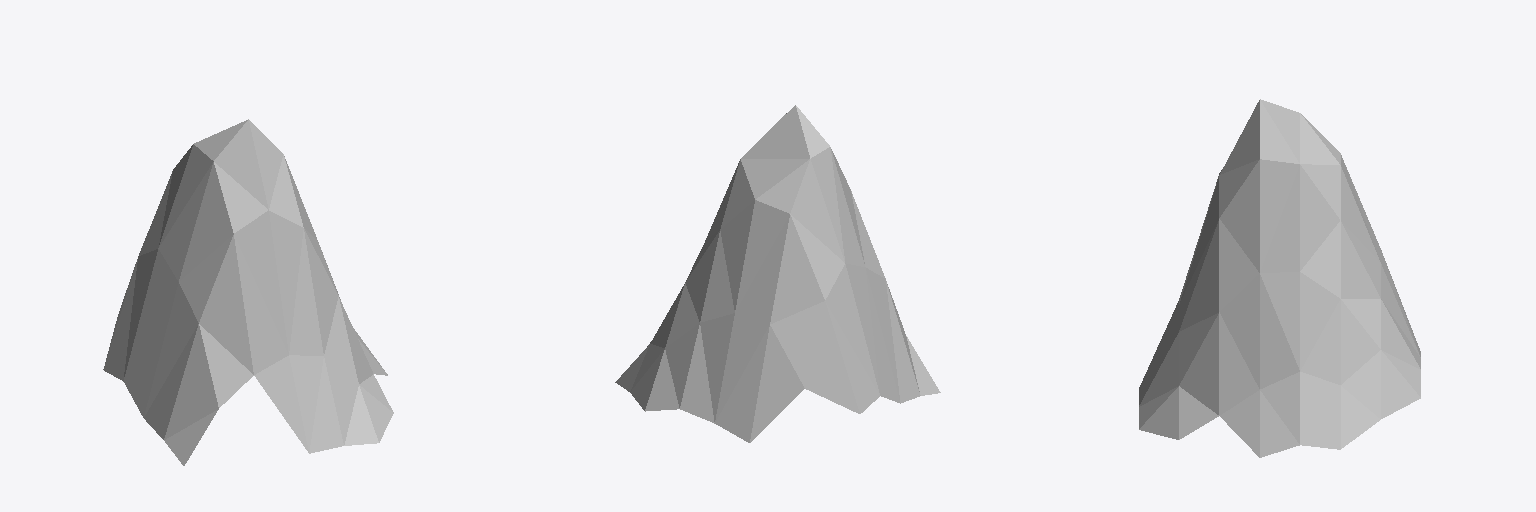
File: tree_34.obj
3 views of the same model, side by side, from view 1: azimuth 30°, elevation 25°; view 2: azimuth 150°, elevation 25°; view 3: azimuth 270°, elevation 25° (orthographic).
Parts seen in each view (by area): view 1: tree_34.001; view 2: tree_34.001; view 3: tree_34.001.
Part boxes in pixels (x1,y1,x2,y2): tree_34.001: (103,119,393,465); tree_34.001: (615,105,940,442); tree_34.001: (1139,99,1420,457).
Bounding box in the file's own units: 7 × 8.1 × 7.